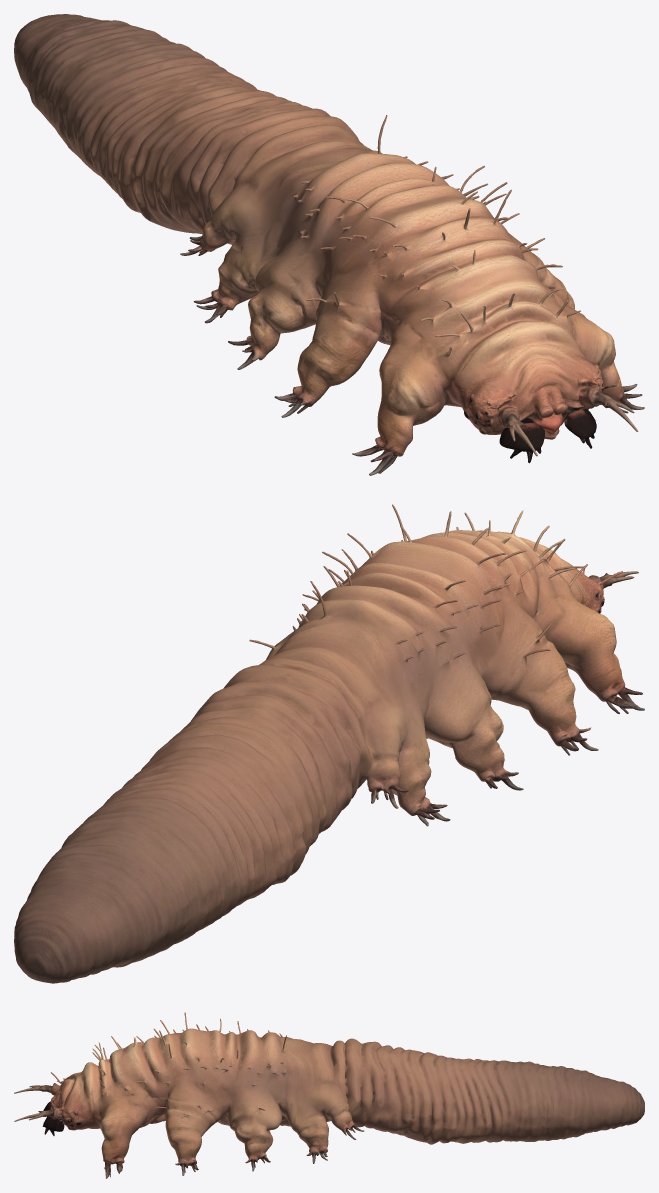
The model's file is demodex.glb.
3 renders of one model, top to bottom at view 1: azimuth 30°, elevation 25°; view 2: azimuth 150°, elevation 25°; view 3: azimuth 270°, elevation 25°, orthographic. The views are drawn at different scales.
Parts seen in each view (by area): view 1: mesh_node; view 2: mesh_node; view 3: mesh_node.
Boxes of the visible parts, x1,y1,x2,y2 form: mesh_node: [14, 14, 644, 475]; mesh_node: [14, 504, 644, 983]; mesh_node: [14, 1012, 644, 1178].
Size of the model in its own units: 0.6301 by 0.393 by 1.91.
Materials: 1 (1 with a texture image).
